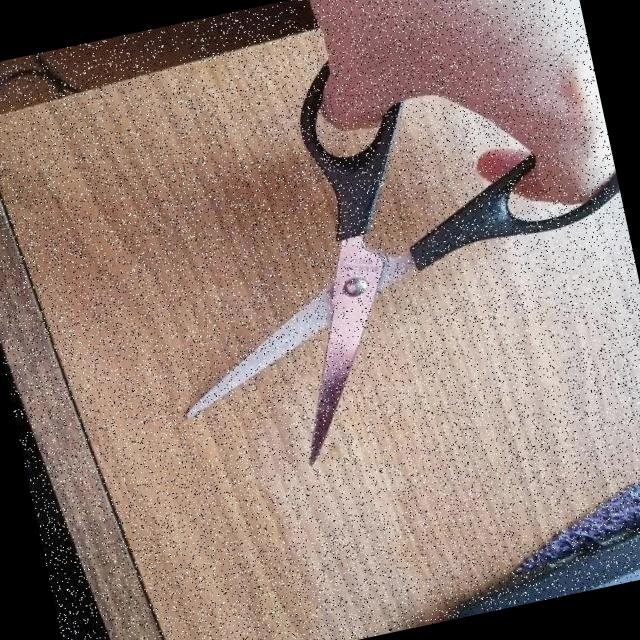scissors: (107, 0, 640, 497)
